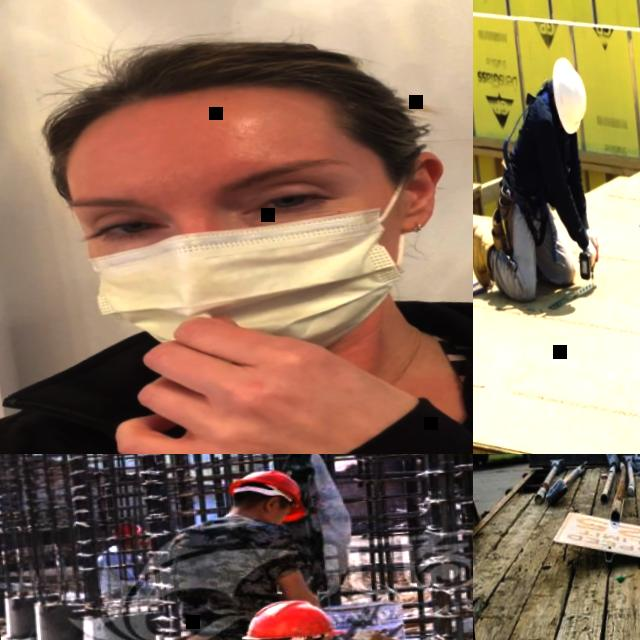Hardhat: (224, 466, 309, 532), (238, 592, 348, 640), (549, 58, 590, 139), (103, 516, 148, 540)
Mask: (70, 160, 418, 372)
NO-Hardhat: (41, 25, 390, 156)
NO-Mask: (258, 506, 289, 528)
NO-Safety Vest: (0, 340, 473, 454), (148, 511, 294, 640), (510, 91, 565, 208), (97, 549, 144, 600)
Person: (0, 4, 473, 454), (473, 57, 605, 305), (151, 463, 327, 640), (96, 518, 157, 609)
